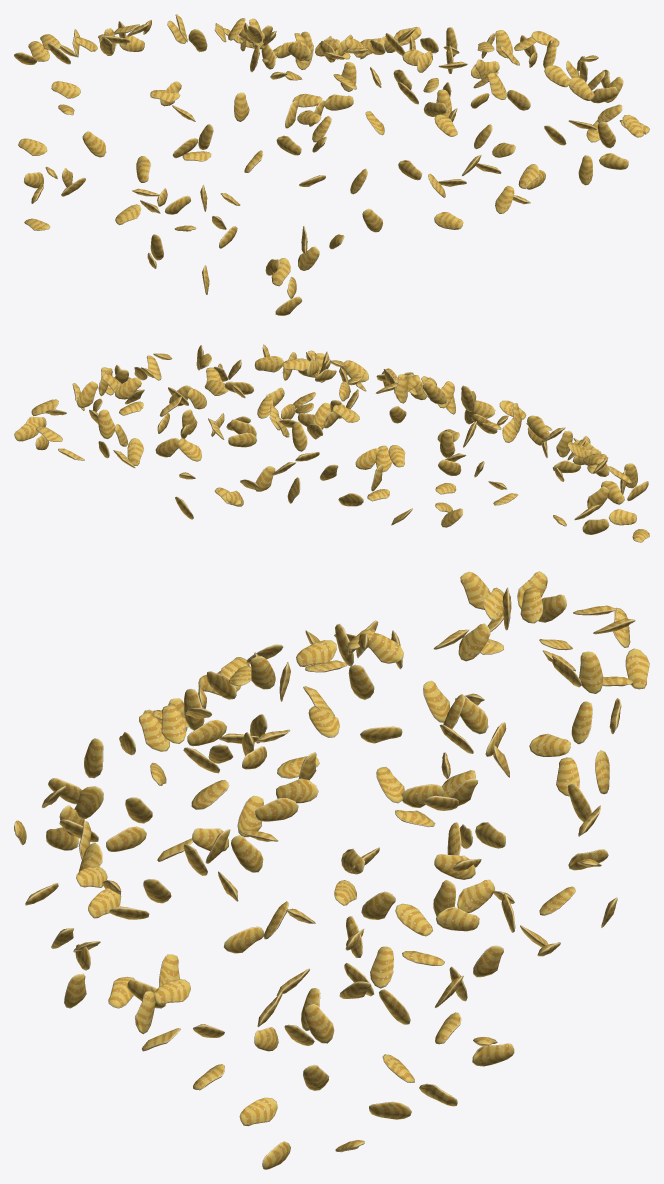
File: brooksiMussel00a.fbx
3 views of the same model, one above another, from view 1: azimuth 30°, elevation 25°; view 2: azimuth 150°, elevation 25°; view 3: azimuth 270°, elevation 25° (orthographic). The views are drawn at different scales.
Visible parts, largest first — view 1: brookskiMussel_temp.199; view 2: brookskiMussel_temp.199; view 3: brookskiMussel_temp.199.
Boxes of the visible parts, left/top/right/bottom form: brookskiMussel_temp.199: left=14, top=14, right=649, bottom=315; brookskiMussel_temp.199: left=14, top=344, right=649, bottom=542; brookskiMussel_temp.199: left=14, top=571, right=649, bottom=1169.
Bounding box in the file's own units: 5.62 × 1.71 × 3.52.
Materials: 1 (1 with a texture image).
